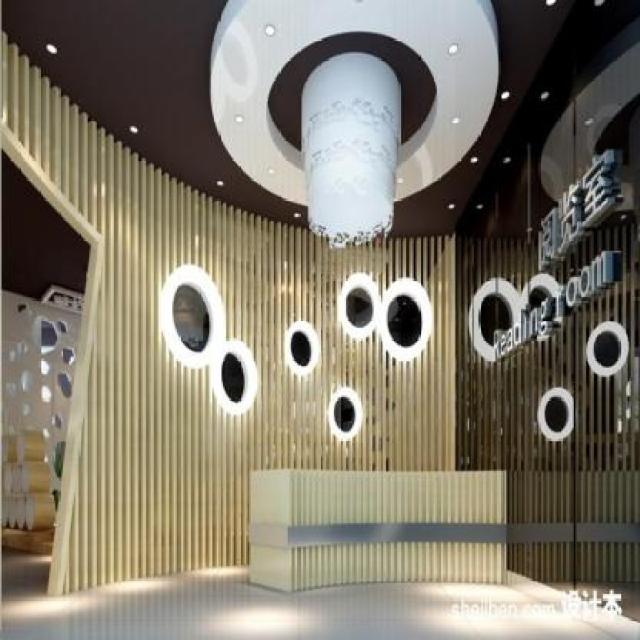frontdesk: (245, 457, 519, 611)
